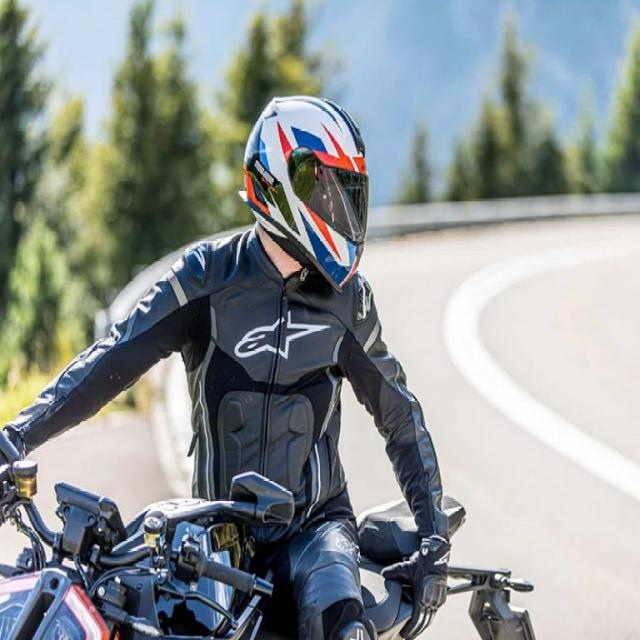helmet: (240, 85, 372, 302)
